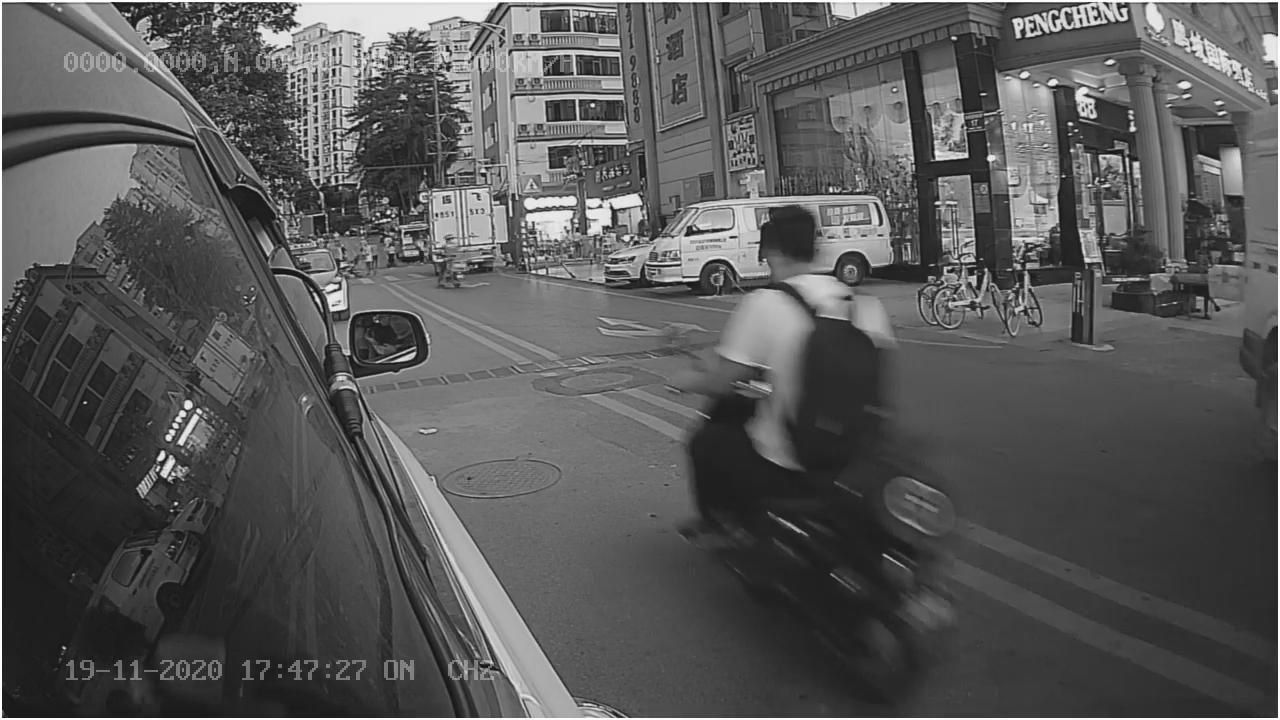person: (729, 210, 892, 459)
